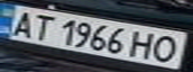1: (51, 16, 78, 46)
6: (106, 25, 130, 55), (90, 22, 112, 52)
9: (69, 19, 93, 49)
A: (3, 8, 39, 38)
H: (127, 29, 160, 60)
O: (148, 34, 184, 64)
T: (24, 11, 57, 42)
